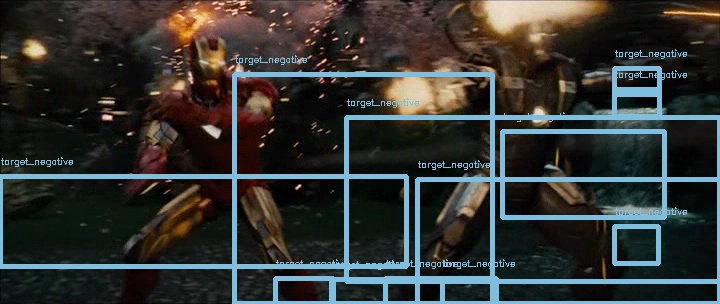person: (186, 33, 233, 88), (185, 33, 232, 88), (187, 33, 234, 88), (186, 32, 233, 87), (186, 34, 233, 89)
target_negative: (146, 35, 616, 256), (220, 3, 568, 264), (592, 36, 690, 184), (541, 151, 625, 271), (498, 116, 510, 251), (601, 226, 662, 239)
